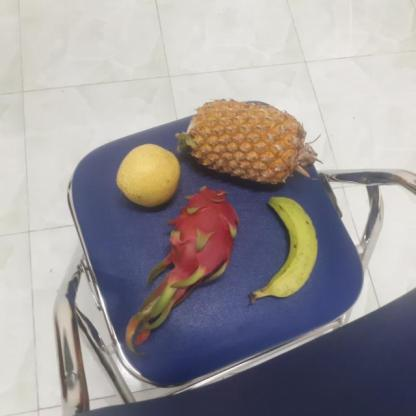banana: (251, 195, 318, 298)
pear: (113, 142, 182, 208)
pineapple: (180, 97, 307, 187)
pitaya: (162, 186, 240, 283)
